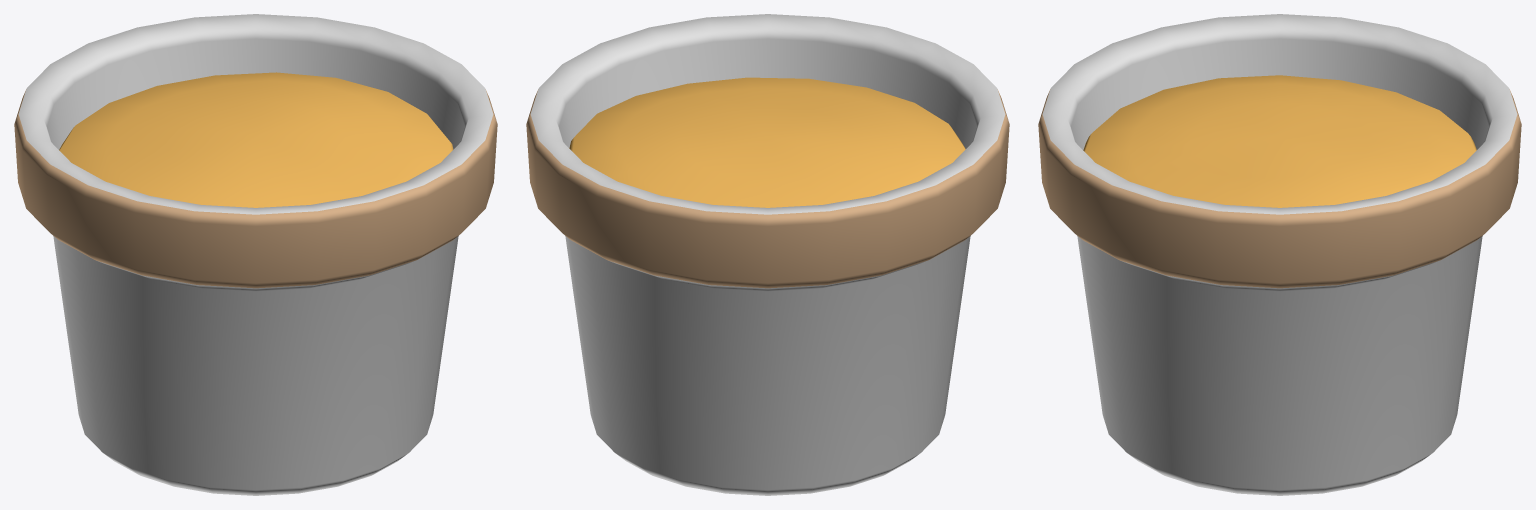
The model's file is pi_cocotteplate10_peanutbutter.gltf.
3 views of the same model, side by side, from view 1: azimuth 30°, elevation 25°; view 2: azimuth 150°, elevation 25°; view 3: azimuth 270°, elevation 25° (orthographic).
Parts seen in each view (by area): view 1: um_pi_cocotteplate10_peanutbutter_model_pi_cocotteplate10_pe (×2); view 2: um_pi_cocotteplate10_peanutbutter_model_pi_cocotteplate10_pe (×2); view 3: um_pi_cocotteplate10_peanutbutter_model_pi_cocotteplate10_pe (×2).
Boxes of the visible parts, box(x1,y1,x2,y2) form: um_pi_cocotteplate10_peanutbutter_model_pi_cocotteplate10_pe (×2): box(14, 14, 497, 495); um_pi_cocotteplate10_peanutbutter_model_pi_cocotteplate10_pe (×2): box(526, 14, 1009, 495); um_pi_cocotteplate10_peanutbutter_model_pi_cocotteplate10_pe (×2): box(1038, 14, 1521, 495).
Size of the model in its own units: 0.0797 by 0.057 by 0.0797.
2 materials, 2 textured.
